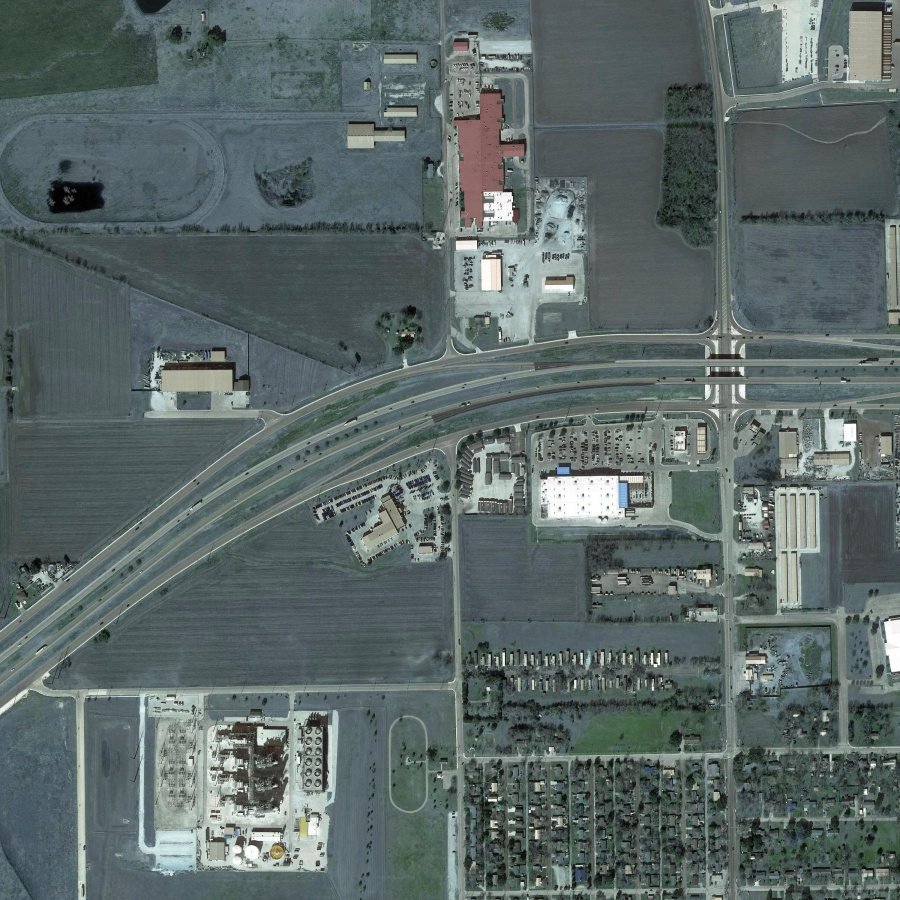PowerPlant: (141, 689, 335, 878)
